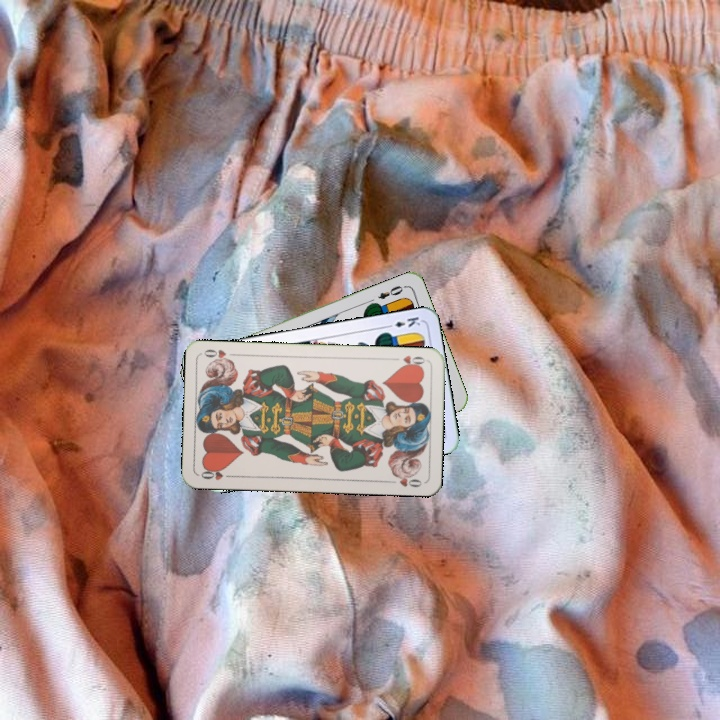EK: (382, 313, 423, 331)
EO: (374, 281, 408, 302)
HO: (389, 351, 428, 370), (197, 465, 237, 483)
